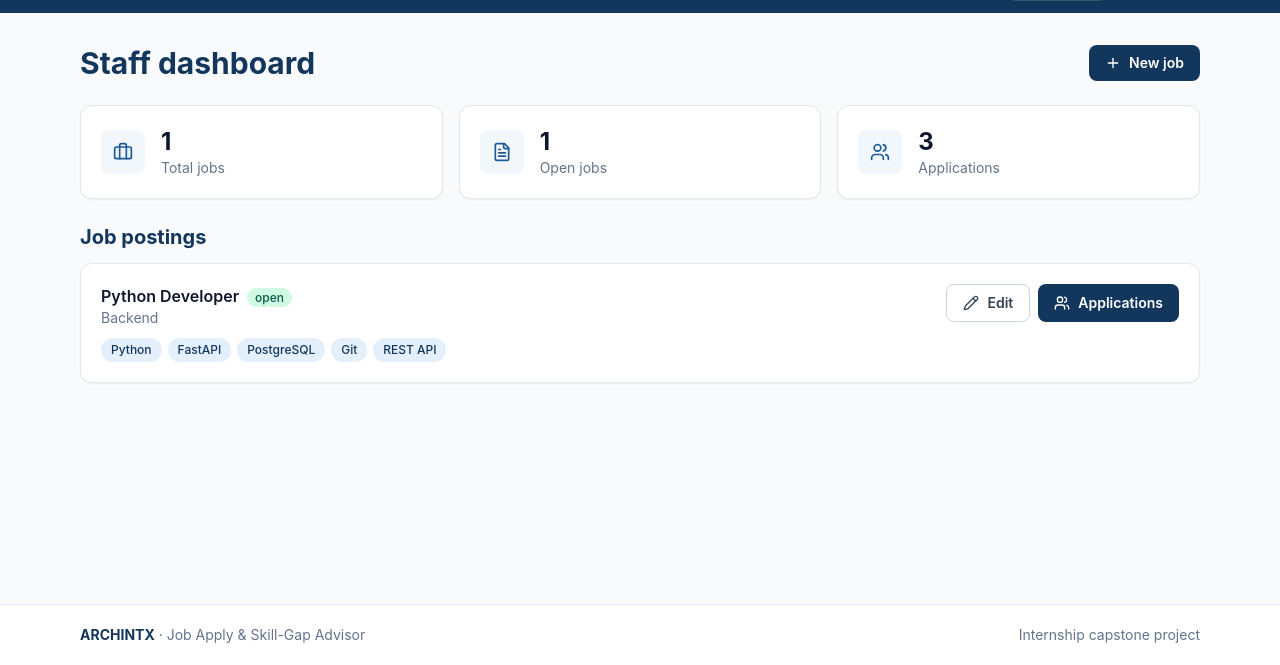
Test: applications list › shows applicants with scores and renders resume text as escaped text
The image size is (1280, 665).
Click the button with aria-label "view applications for python developer": (1109, 303) [1038,284,1179,322]
(page scrolled)
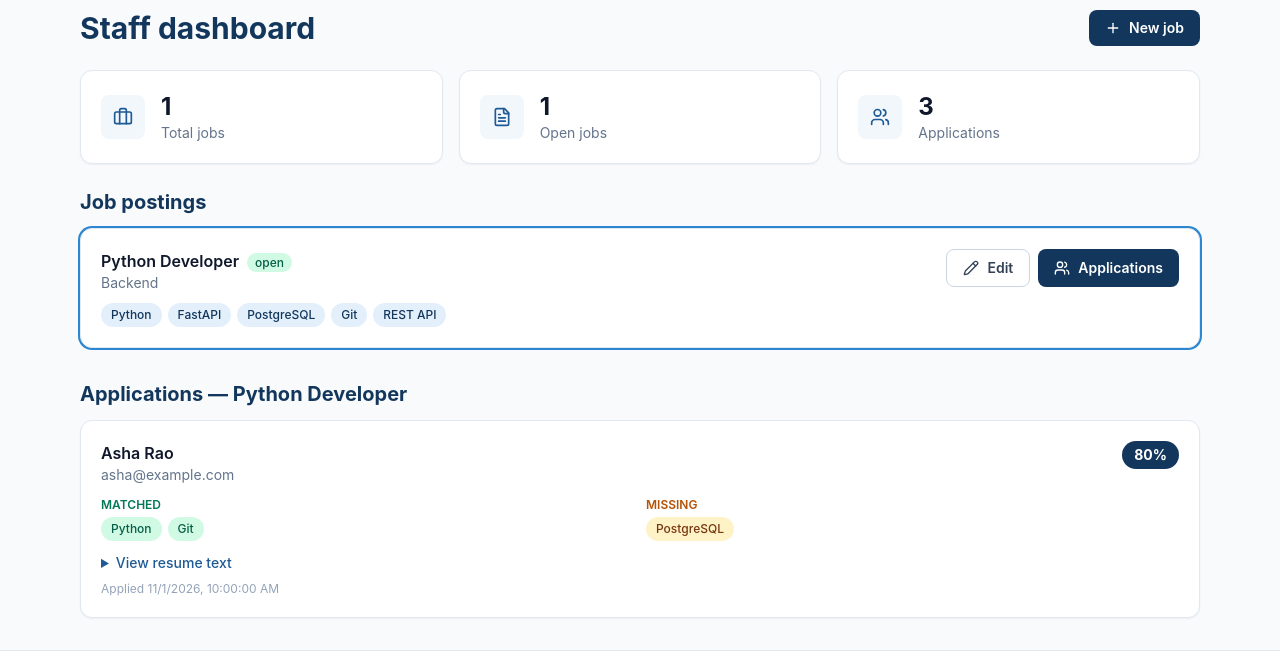
Result: the text "Asha Rao" is shown at [101,443,174,463]
Result: the text "asha@example.com" is shown at [101,465,234,485]
Result: the text named "Match score 80 percent" is shown at [1122,441,1179,469]
